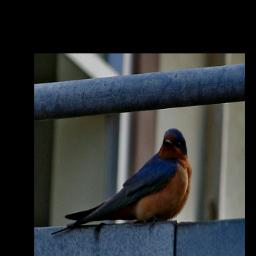Swallow: (51, 128, 192, 236)
